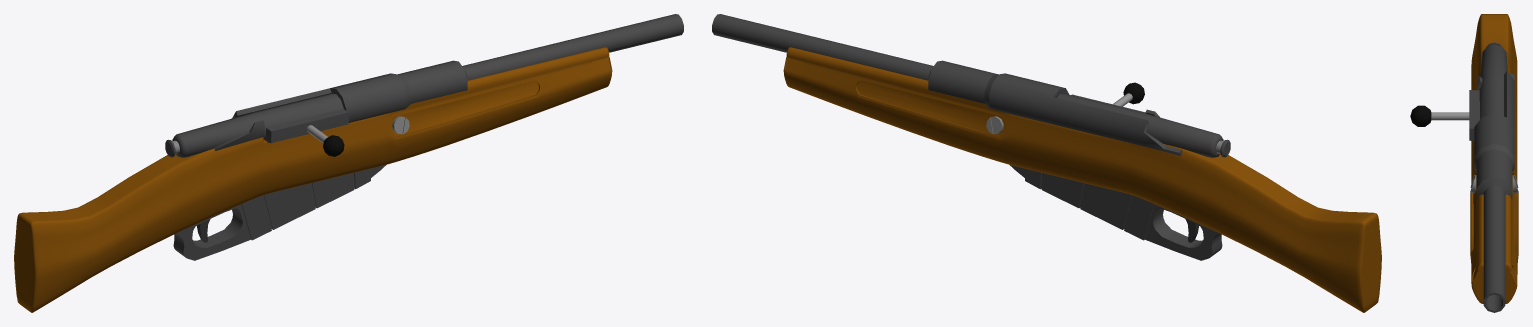
Rendered from Mosin_Nagant_Pistol_Mesh.fbx.
The picture shows the model from 3 angles, left to right: view 1: azimuth 30°, elevation 25°; view 2: azimuth 150°, elevation 25°; view 3: azimuth 270°, elevation 25°; orthographic projection.
Parts seen in each view (by area): view 1: Mosin_Nagant_Pistol; view 2: Mosin_Nagant_Pistol; view 3: Mosin_Nagant_Pistol.
Boxes of the visible parts, box(x1,y1,x2,y2) form: Mosin_Nagant_Pistol: box(14, 14, 683, 312); Mosin_Nagant_Pistol: box(712, 14, 1381, 312); Mosin_Nagant_Pistol: box(1410, 14, 1518, 312).
Size of the model in its own units: 0.4477 by 0.094 by 0.0633.
